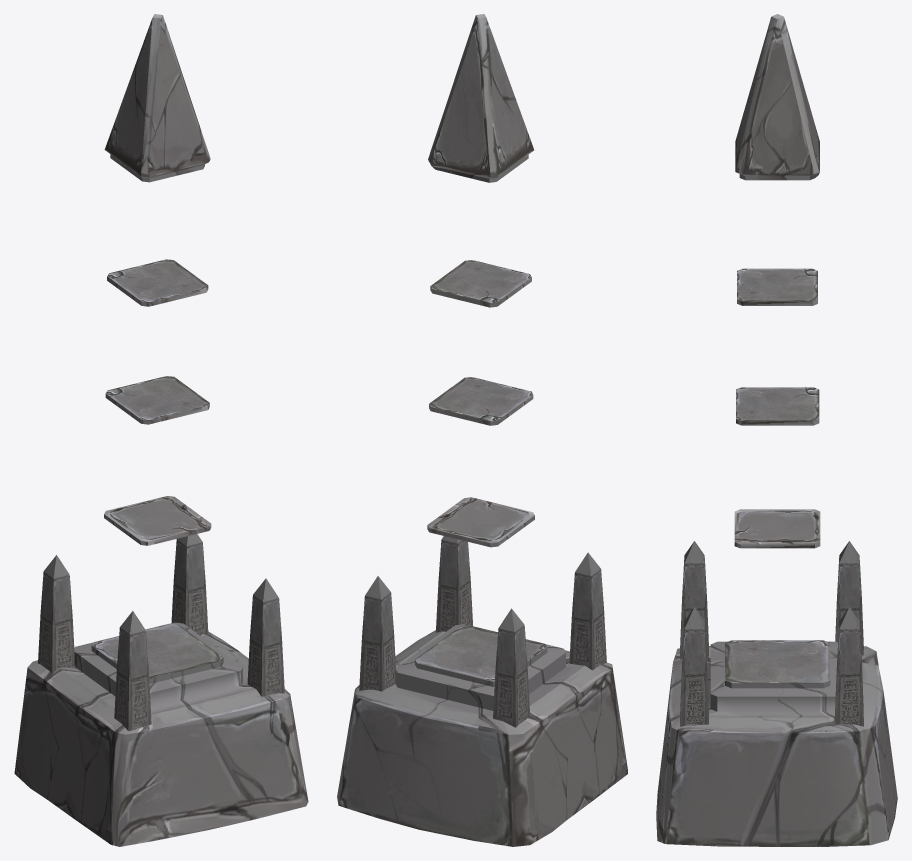
Rendered from odelisk_keydong.FBX.
3 renders of one model, left to right at view 1: azimuth 30°, elevation 25°; view 2: azimuth 150°, elevation 25°; view 3: azimuth 270°, elevation 25°, orthographic.
Visible parts, largest first — view 1: Pyramid003; view 2: Pyramid003; view 3: Pyramid003.
Part boxes in pixels (x1,y1,x2,y2): Pyramid003: (14,14,308,846); Pyramid003: (337,14,627,846); Pyramid003: (656,14,897,846).
Bounding box in the file's own units: 112 × 412 × 116.
